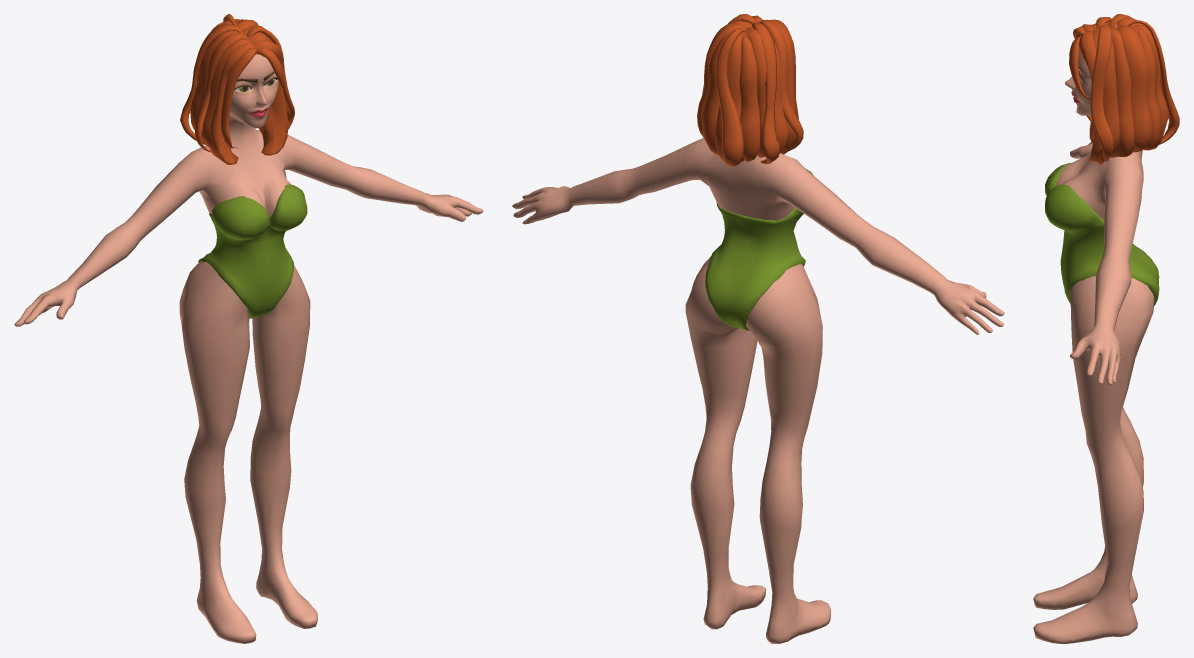
Rendered from general model without gloves.fbx.
The picture shows the model from 3 angles, left to right: view 1: azimuth 30°, elevation 25°; view 2: azimuth 150°, elevation 25°; view 3: azimuth 270°, elevation 25°; orthographic projection. The views are drawn at different scales.
Parts seen in each view (by area): view 1: Hair_2_Plane.011; view 2: Hair_2_Plane.011; view 3: Hair_2_Plane.011.
Part boxes in pixels (bbox=[...]): Hair_2_Plane.011: bbox=[14, 14, 483, 643]; Hair_2_Plane.011: bbox=[512, 14, 1004, 643]; Hair_2_Plane.011: bbox=[1033, 14, 1179, 643].
Size of the model in its own units: 91.54 by 109 by 24.12.
